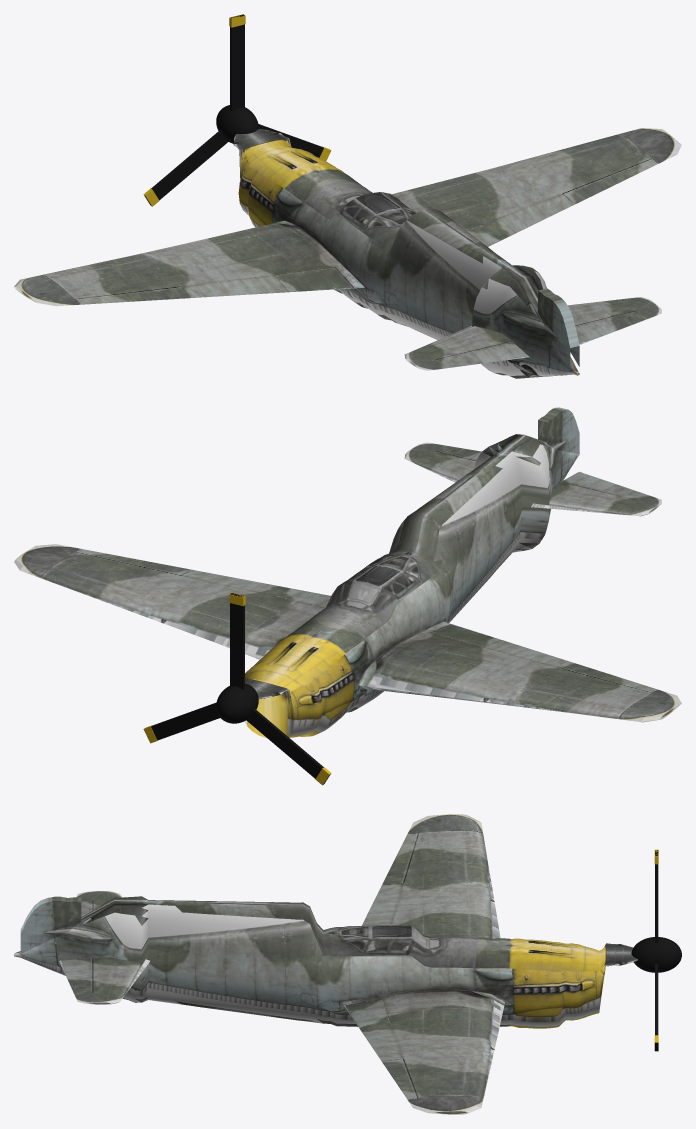
3 views of the same model, one above another, from view 1: azimuth 30°, elevation 25°; view 2: azimuth 150°, elevation 25°; view 3: azimuth 270°, elevation 25° (orthographic). The views are drawn at different scales.
Visible parts, largest first — view 1: Fuselage, WingL, WingR, TailplaneL, TailplaneR, Fin, _MeshInstance3D_1004, Blade, Spinner; view 2: Fuselage, WingL, WingR, TailplaneL, TailplaneR, Fin, _MeshInstance3D_1004, Spinner, Blade, _MeshInstance3D_1002; view 3: Fuselage, WingR, WingL, TailplaneR, Fin, Spinner, TailplaneL.
Part boxes in pixels (bbox=[...]): Fuselage: bbox=[233, 129, 579, 378]; WingL: bbox=[14, 220, 364, 306]; WingR: bbox=[392, 128, 681, 246]; TailplaneL: bbox=[404, 326, 529, 370]; TailplaneR: bbox=[568, 297, 661, 344]; Fin: bbox=[538, 288, 579, 369]; _MeshInstance3D_1004: bbox=[144, 130, 228, 205]; Blade: bbox=[230, 14, 244, 111]; Spinner: bbox=[216, 105, 258, 143]; Fuselage: bbox=[244, 434, 579, 737]; WingL: bbox=[359, 621, 681, 722]; WingR: bbox=[14, 544, 330, 659]; TailplaneL: bbox=[531, 471, 661, 516]; TailplaneR: bbox=[404, 442, 481, 482]; Fin: bbox=[538, 407, 579, 453]; _MeshInstance3D_1004: bbox=[246, 708, 330, 784]; Spinner: bbox=[216, 683, 258, 723]; Blade: bbox=[230, 593, 244, 689]; _MeshInstance3D_1002: bbox=[151, 702, 219, 740]; Fuselage: bbox=[14, 896, 637, 1028]; WingR: bbox=[342, 990, 504, 1114]; WingL: bbox=[362, 814, 500, 938]; TailplaneR: bbox=[59, 957, 149, 1004]; Fin: bbox=[20, 896, 81, 953]; Spinner: bbox=[631, 937, 681, 972]; TailplaneL: bbox=[76, 891, 122, 916].
Size of the model in its own units: 9.92 by 2.72 by 9.43.
3 materials, 1 textured.
